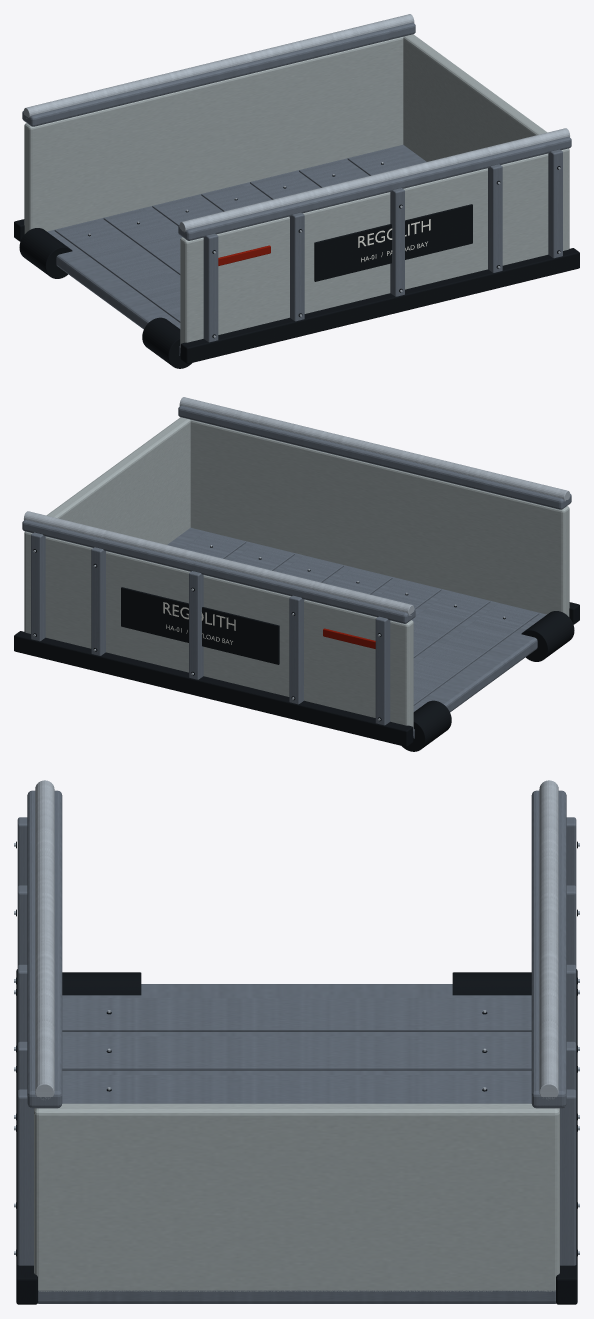
Rendered from dump_bed.glb.
The picture shows the model from 3 angles, top to bottom: view 1: azimuth 30°, elevation 25°; view 2: azimuth 150°, elevation 25°; view 3: azimuth 270°, elevation 25°; orthographic projection. The views are drawn at different scales.
Visible parts, largest first — view 1: dump_bed; view 2: dump_bed; view 3: dump_bed.
Part boxes in pixels (box(x1,y1,x2,y2)): dump_bed: box(14, 14, 579, 368); dump_bed: box(14, 397, 579, 751); dump_bed: box(14, 780, 579, 1304).
Size of the model in its own units: 1.39 by 0.498 by 1.05.
Materials: 6 (5 with a texture image).
